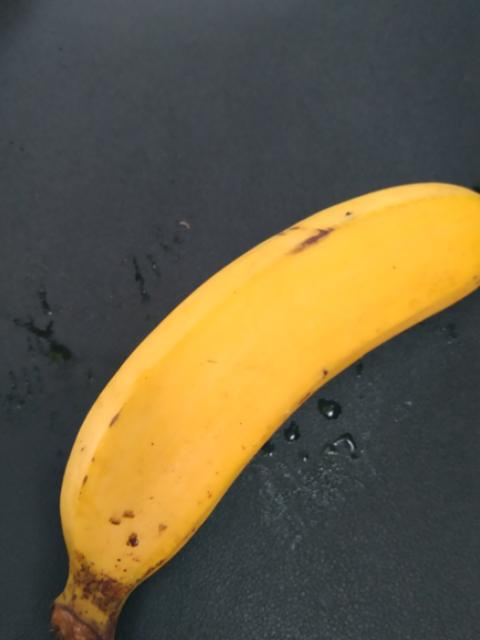freshripe: (47, 168, 479, 572)
